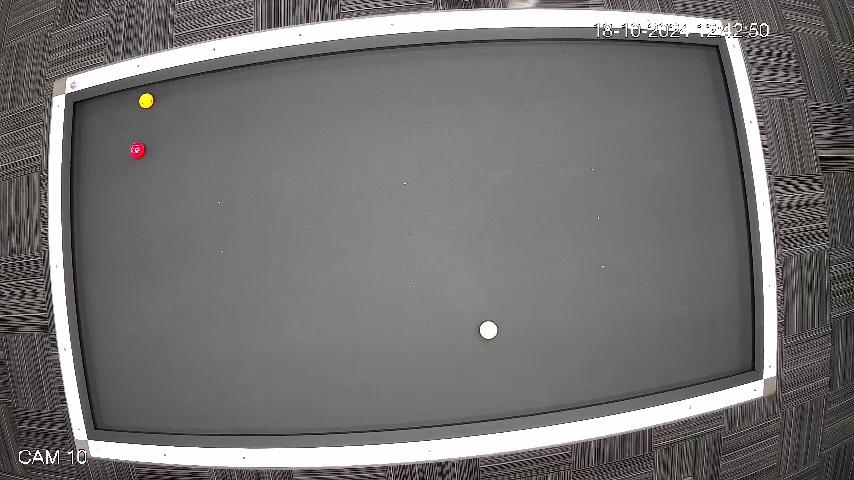Red: (128, 141, 145, 160)
White: (479, 318, 499, 340)
Yellow: (138, 92, 154, 110)
